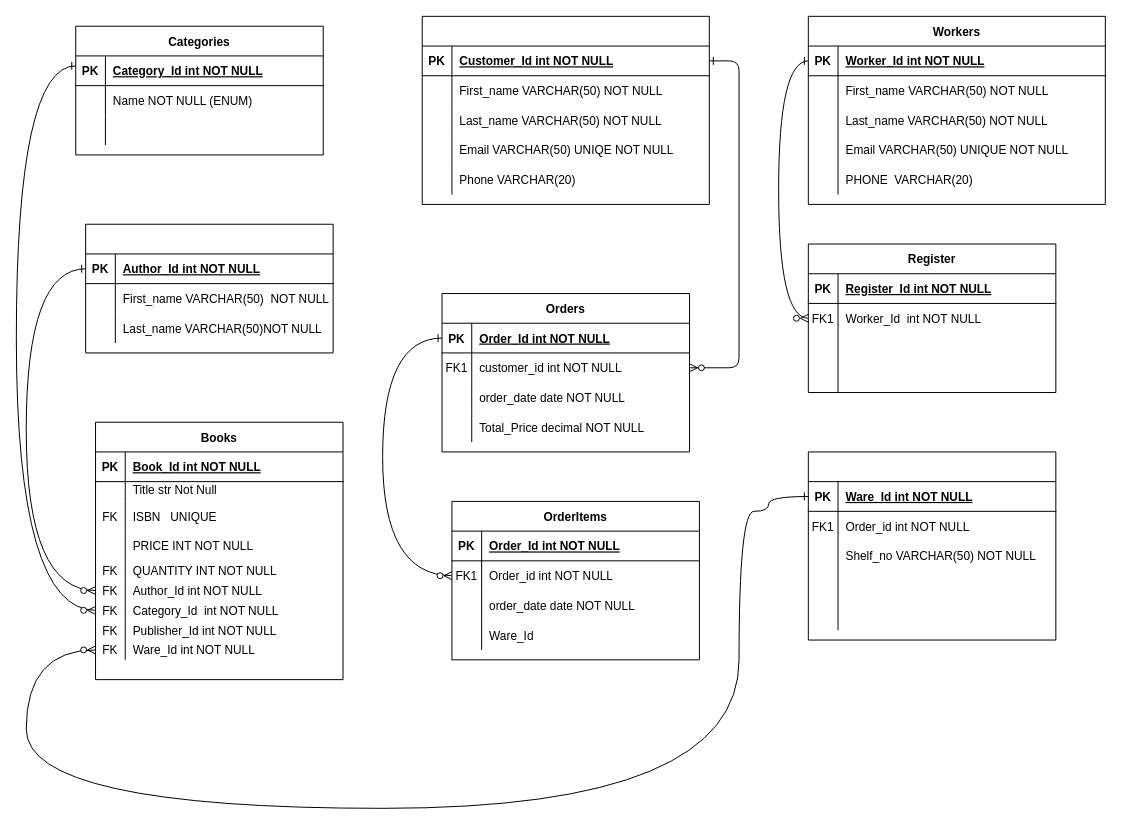
Some shapes in this 1122 by 825 pixel diagram are drawn without their labels. The box of each missing label's shape, as (x1, y1, x2, y2) in pixels:
Authors: (85, 223, 333, 353)
Customers: (421, 15, 709, 204)
Warehouse: (807, 451, 1056, 640)
